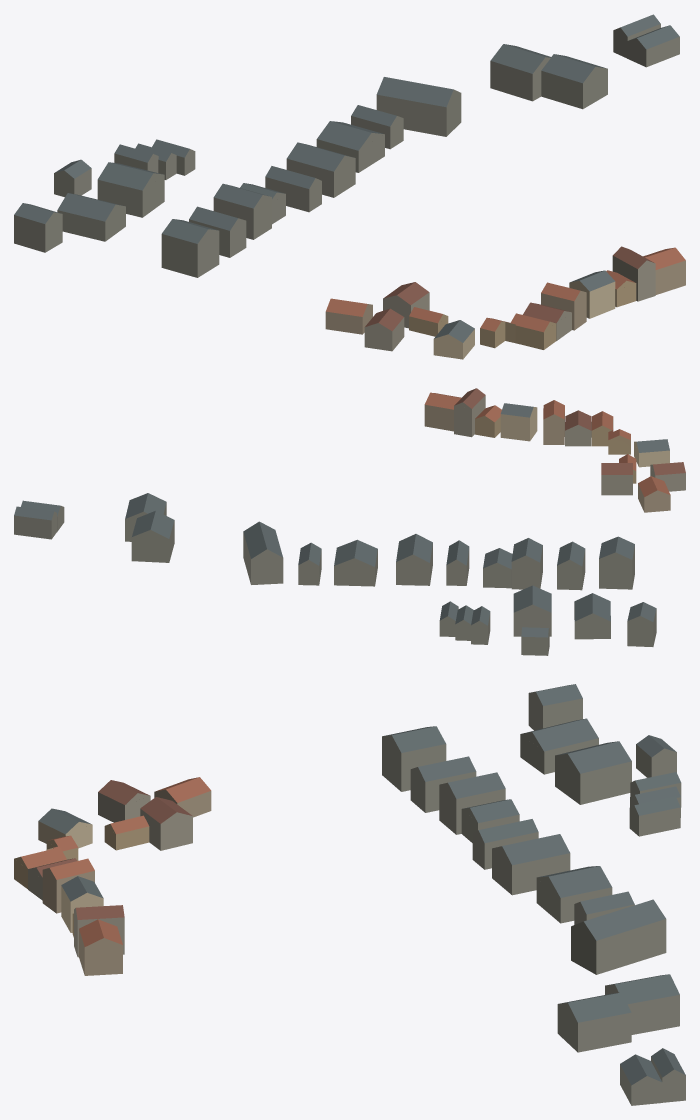
The picture shows the model from 3 angles, top to bottom: view 1: azimuth 30°, elevation 25°; view 2: azimuth 150°, elevation 25°; view 3: azimuth 270°, elevation 25°; orthographic projection. The views are drawn at different scales.
Visible parts, largest first — view 1: C_1_4; view 2: C_1_4; view 3: C_1_4.
Boxes of the visible parts, bbox=[...] form: C_1_4: bbox=[14, 14, 685, 359]; C_1_4: bbox=[14, 388, 685, 655]; C_1_4: bbox=[14, 684, 685, 1105].
Size of the model in its own units: 255 by 14.84 by 187.
